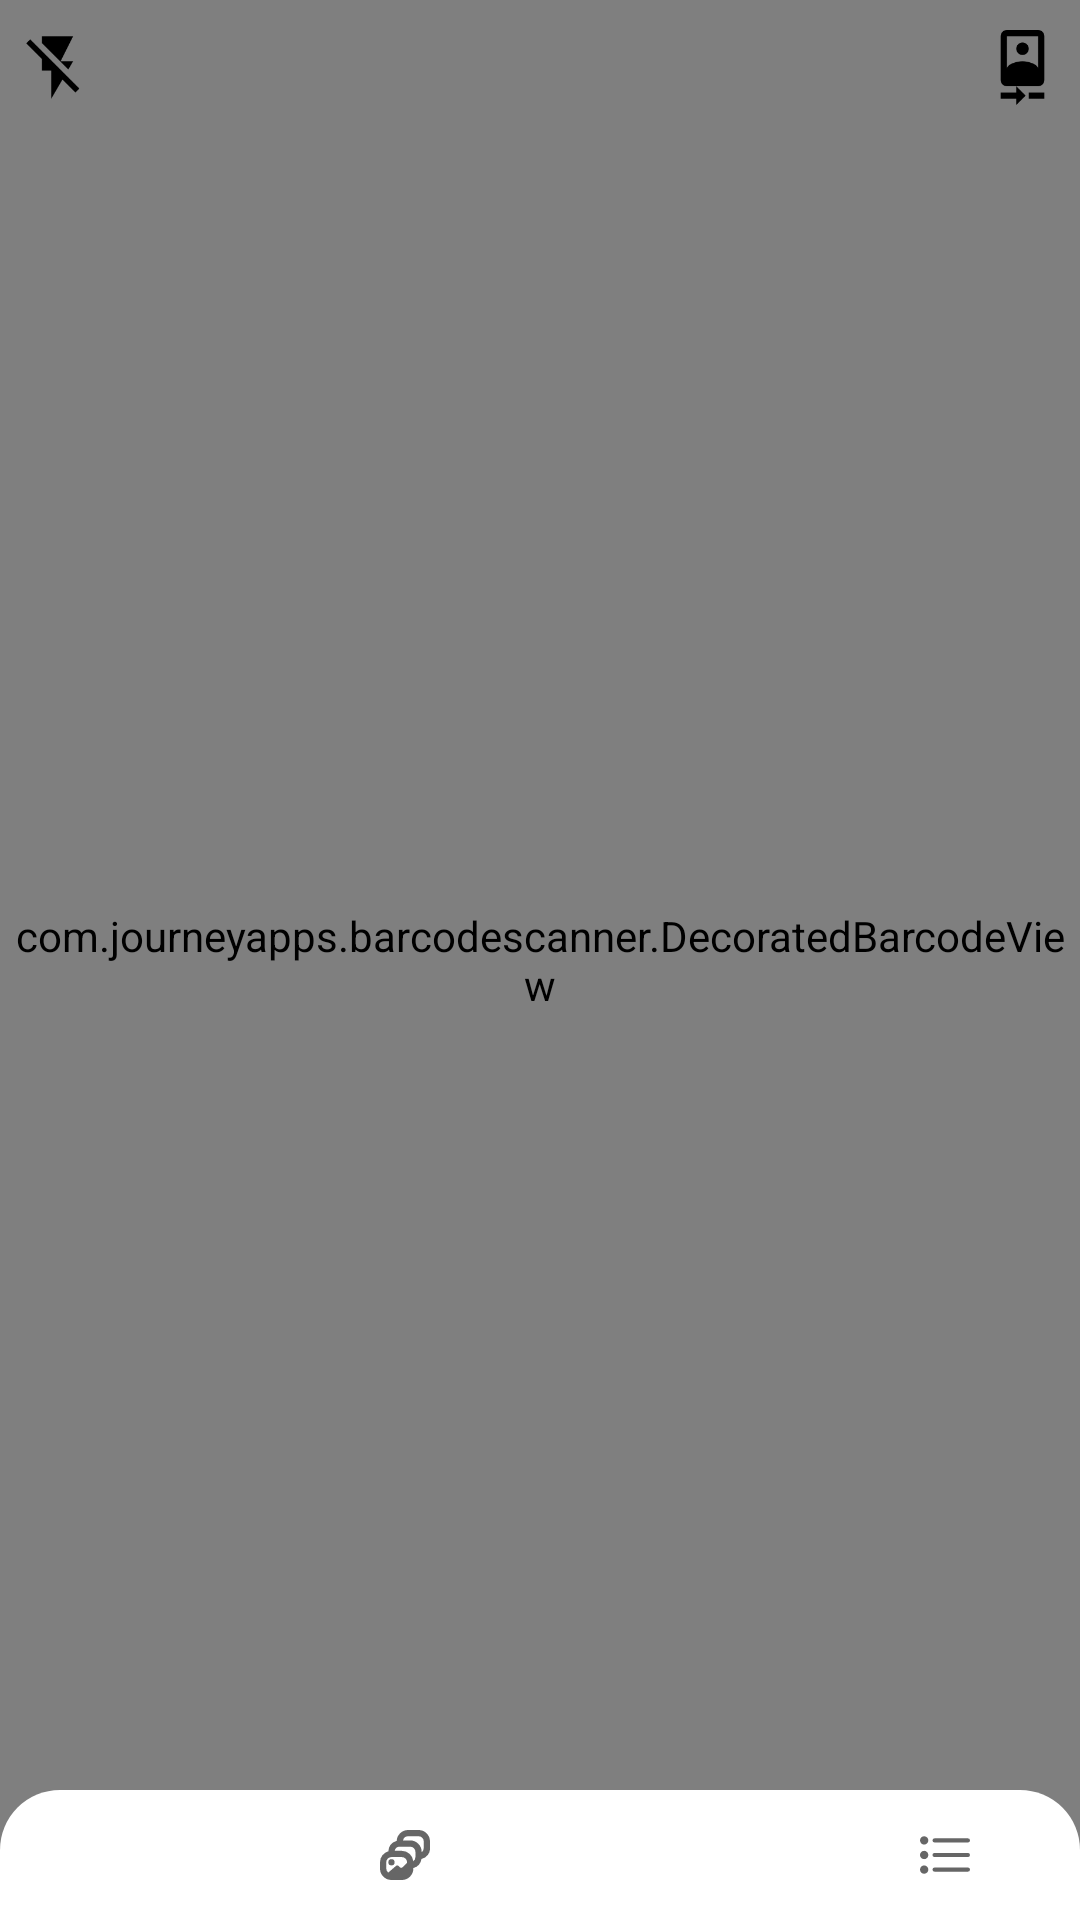

Icon bounding boxes for this 1080 x 1920 phone screenshot, format (x1, y1, x2, y2):
camera front: (1000, 30, 1045, 105)
flash off: (26, 36, 79, 99)
gallery: (380, 1830, 430, 1880)
list: (920, 1836, 970, 1874)
